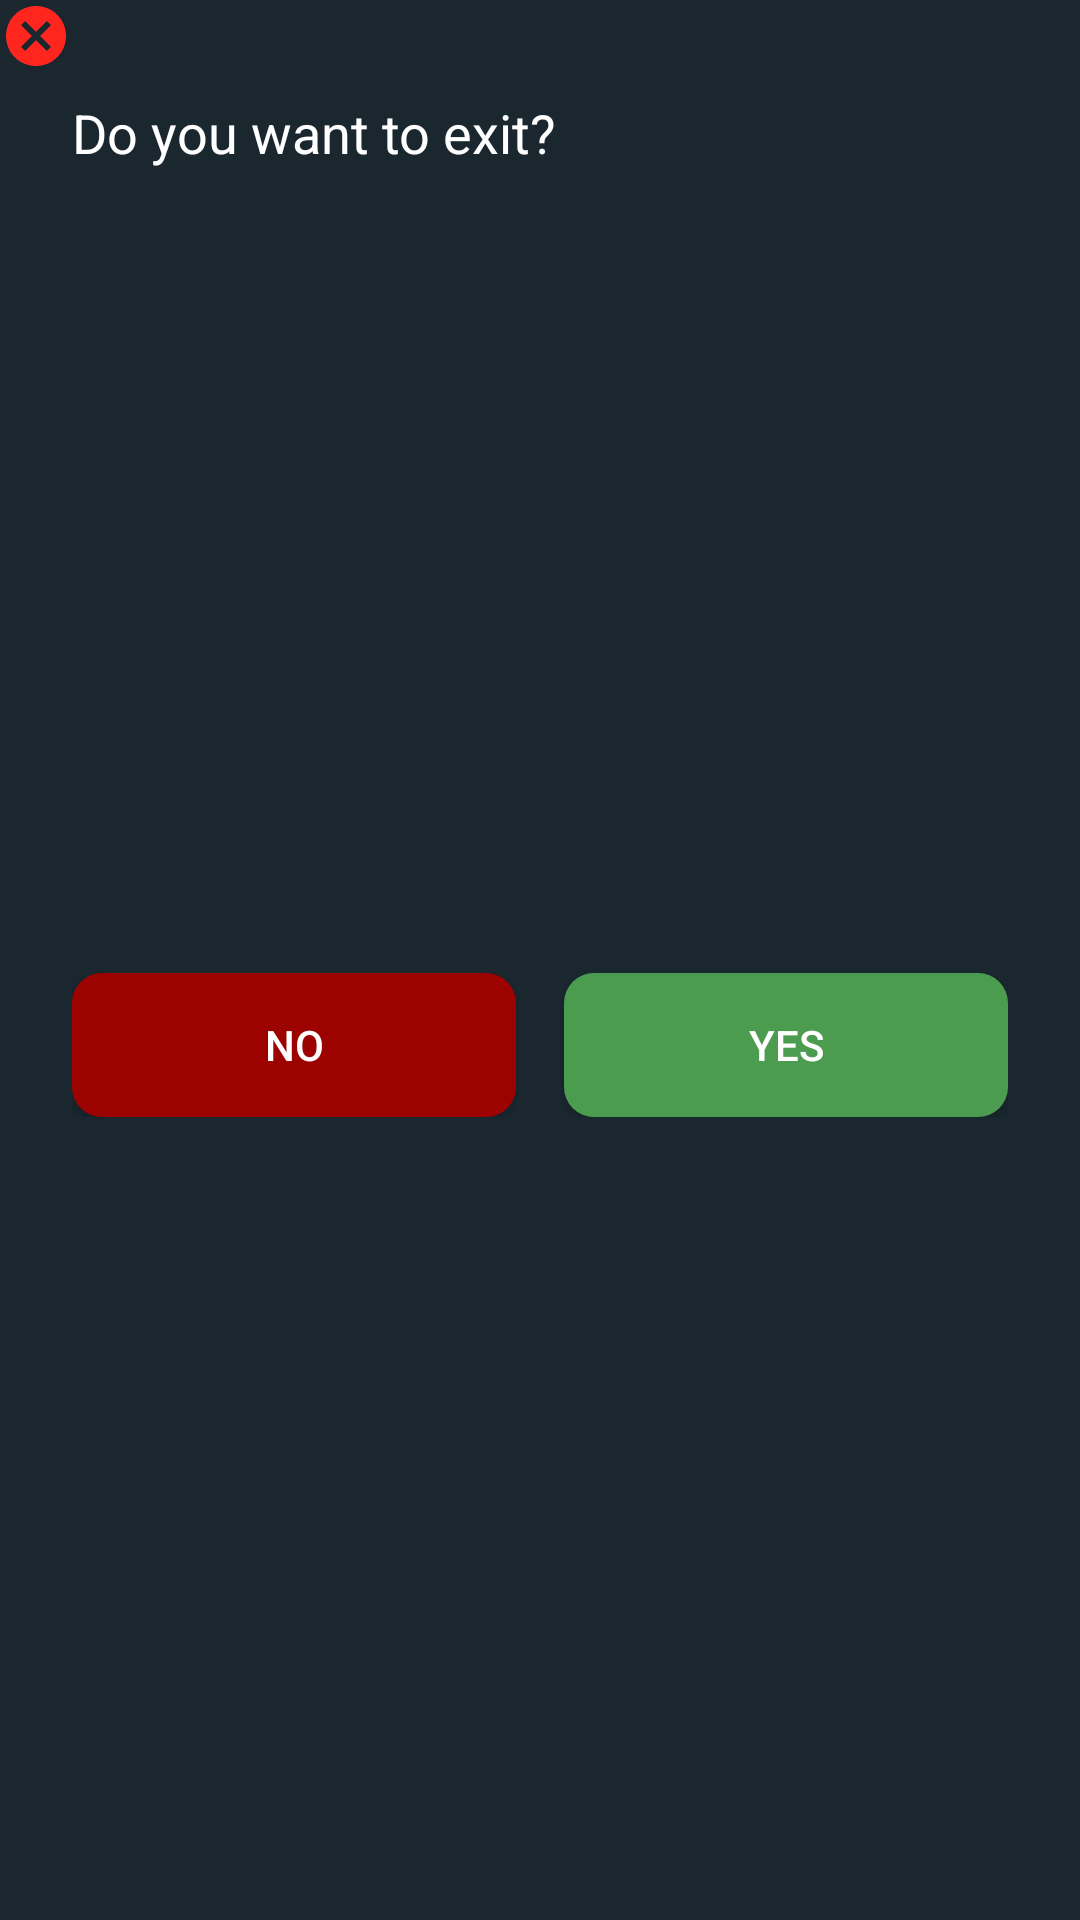

Named icons in this screenshot (1080x1920) and their bounding boxes, (x1, y1, x2, y2):
cancel: (6, 6, 66, 66)
